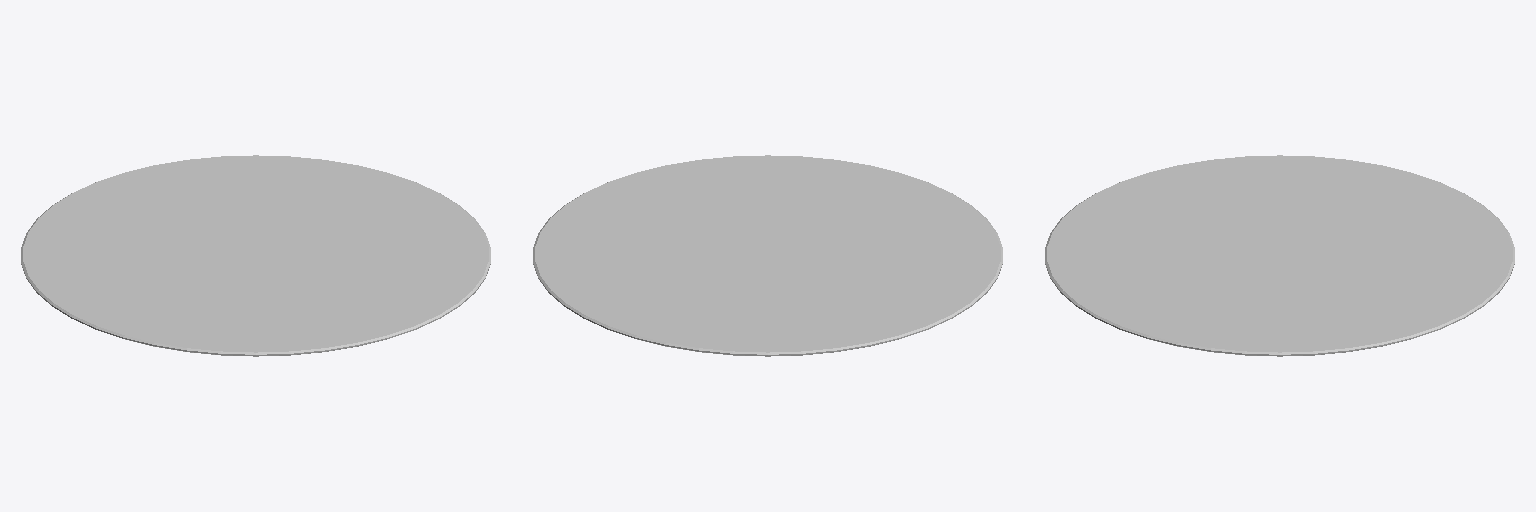
Rendered from 3DBK_100121.obj.
3 renders of one model, left to right at view 1: azimuth 30°, elevation 25°; view 2: azimuth 150°, elevation 25°; view 3: azimuth 270°, elevation 25°, orthographic.
Parts seen in each view (by area): view 1: 3DBK_100121; view 2: 3DBK_100121; view 3: 3DBK_100121.
Boxes of the visible parts, x1,y1,x2,y2 form: 3DBK_100121: [21, 155, 490, 356]; 3DBK_100121: [533, 155, 1002, 356]; 3DBK_100121: [1045, 155, 1514, 356].
Size of the model in its own units: 121 by 1.15 by 121.